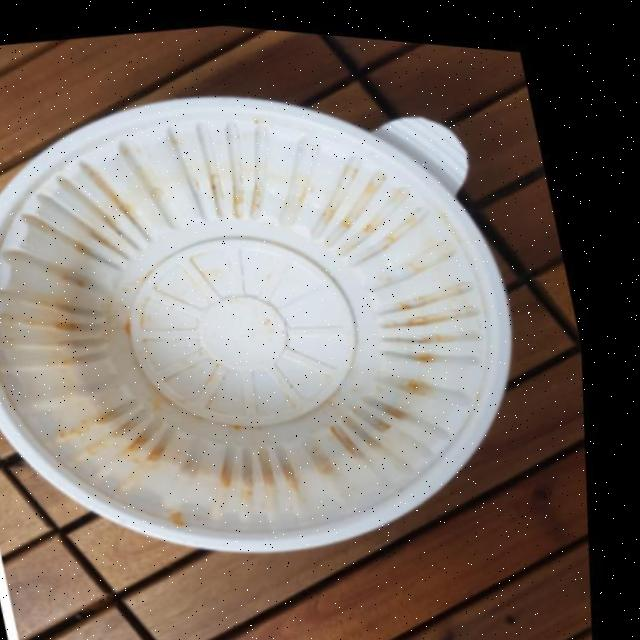disposable: (0, 84, 555, 604)
